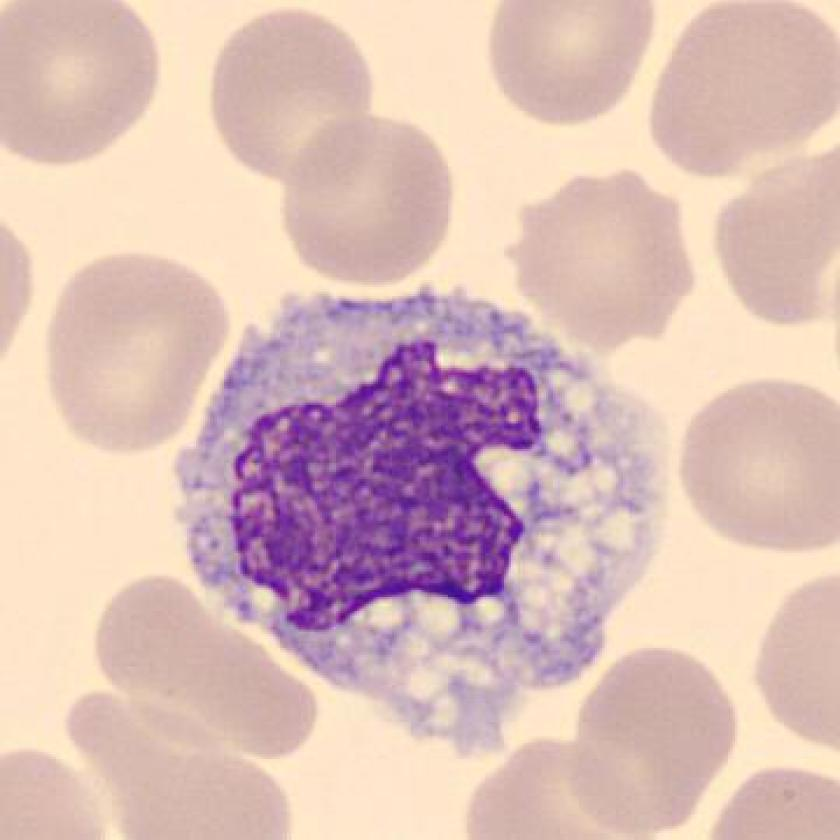monocyte: (155, 251, 706, 778)
